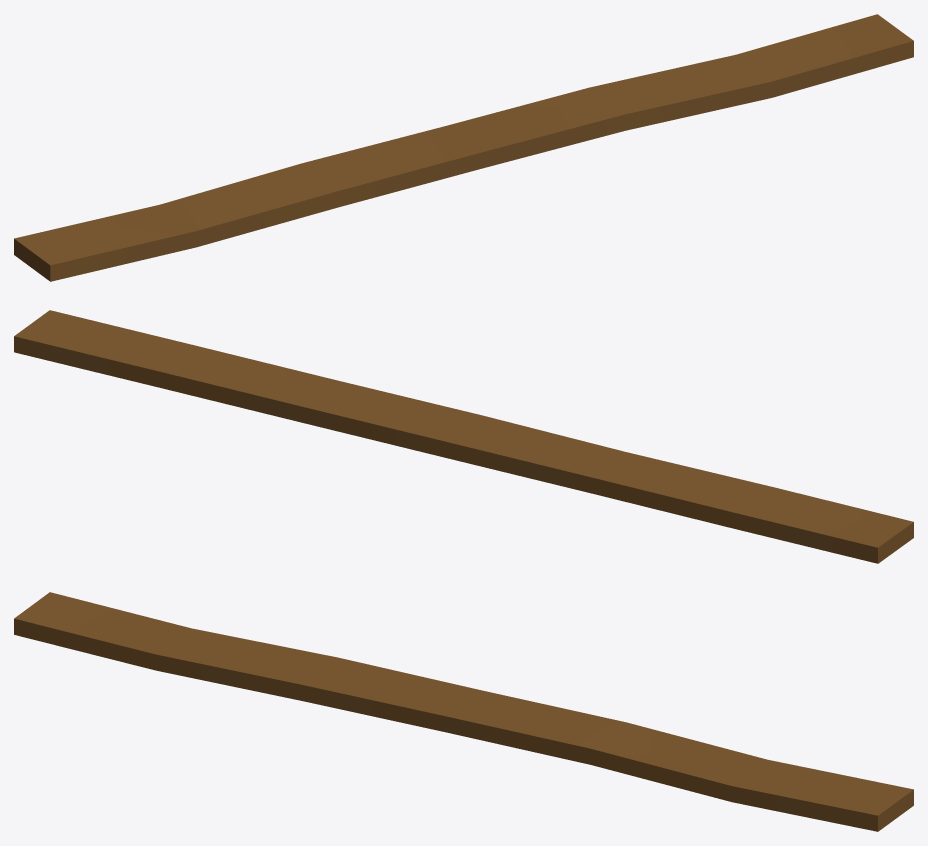
File: plank_01_a002.fbx
The picture shows the model from 3 angles, top to bottom: view 1: azimuth 30°, elevation 25°; view 2: azimuth 150°, elevation 25°; view 3: azimuth 330°, elevation 25°; orthographic projection.
Parts seen in each view (by area): view 1: Plank_01_a002; view 2: Plank_01_a002; view 3: Plank_01_a002.
Boxes of the visible parts, <box> form: Plank_01_a002: <box>14,14,913,281</box>; Plank_01_a002: <box>14,310,913,563</box>; Plank_01_a002: <box>14,592,913,831</box>.
Size of the model in its own units: 47.35 by 4.14 by 1.27.
